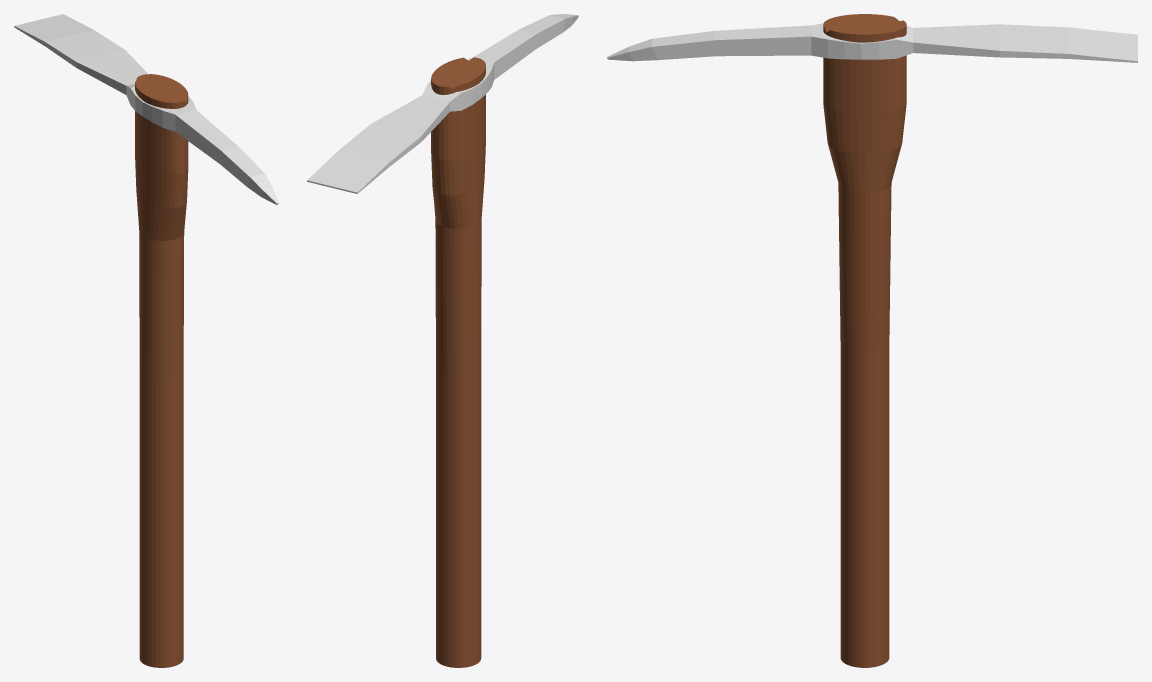
The model's file is pickaxe.fbx.
3 renders of one model, left to right at view 1: azimuth 30°, elevation 25°; view 2: azimuth 150°, elevation 25°; view 3: azimuth 270°, elevation 25°, orthographic. The views are drawn at different scales.
Visible parts, largest first — view 1: Cylinder, Cube; view 2: Cylinder, Cube; view 3: Cylinder, Cube.
Part boxes in pixels (x1,y1,x2,y2): Cylinder: (135, 74, 188, 667); Cube: (14, 14, 278, 204); Cylinder: (431, 57, 485, 667); Cube: (307, 14, 578, 193); Cylinder: (823, 14, 906, 667); Cube: (607, 23, 1137, 62).
Size of the model in its own units: 18 by 200 by 152.
